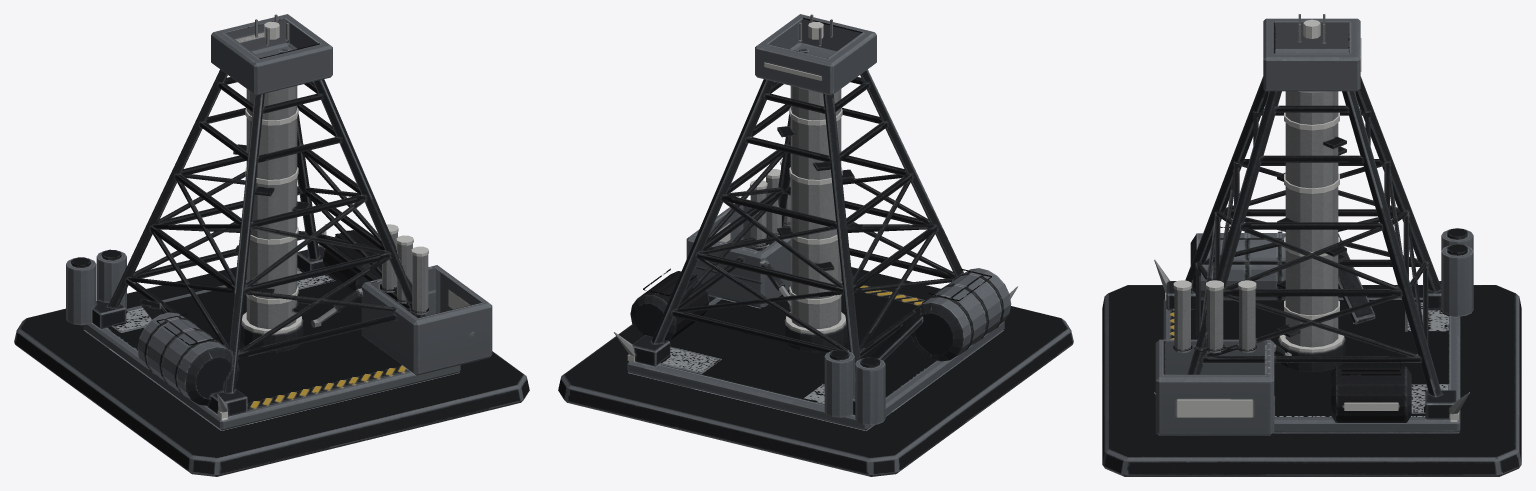
Rendered from chs_advextractor.fbx.
The picture shows the model from 3 angles, left to right: view 1: azimuth 30°, elevation 25°; view 2: azimuth 150°, elevation 25°; view 3: azimuth 270°, elevation 25°; orthographic projection. The views are drawn at different scales.
Visible parts, largest first — view 1: base_bar, drill_bar, drill_glow_power_bar, base_glow_power_bar; view 2: base_bar, drill_bar, drill_glow_power_bar, base_glow_running_bar; view 3: base_bar, drill_bar, base_glow_power_bar, drill_glow_power_bar, base_glow_running_bar.
Part boxes in pixels (x1=…): base_bar: x1=14, y1=14, x2=529, y2=476; drill_bar: x1=233, y1=86, x2=310, y2=352; drill_glow_power_bar: x1=242, y1=107, x2=301, y2=334; base_glow_power_bar: x1=374, y1=224, x2=469, y2=309; base_bar: x1=558, y1=14, x2=1073, y2=476; drill_bar: x1=777, y1=86, x2=854, y2=352; drill_glow_power_bar: x1=786, y1=107, x2=845, y2=334; base_glow_running_bar: x1=627, y1=21, x2=823, y2=362; base_bar: x1=1102, y1=14, x2=1521, y2=476; drill_bar: x1=1277, y1=91, x2=1346, y2=372; base_glow_power_bar: x1=1173, y1=280, x2=1398, y2=417; drill_glow_power_bar: x1=1279, y1=112, x2=1344, y2=352; base_glow_running_bar: x1=1165, y1=19, x2=1458, y2=420.
Size of the model in its own units: 1556 by 1715 by 1556.
Materials: 2 (2 with a texture image).
